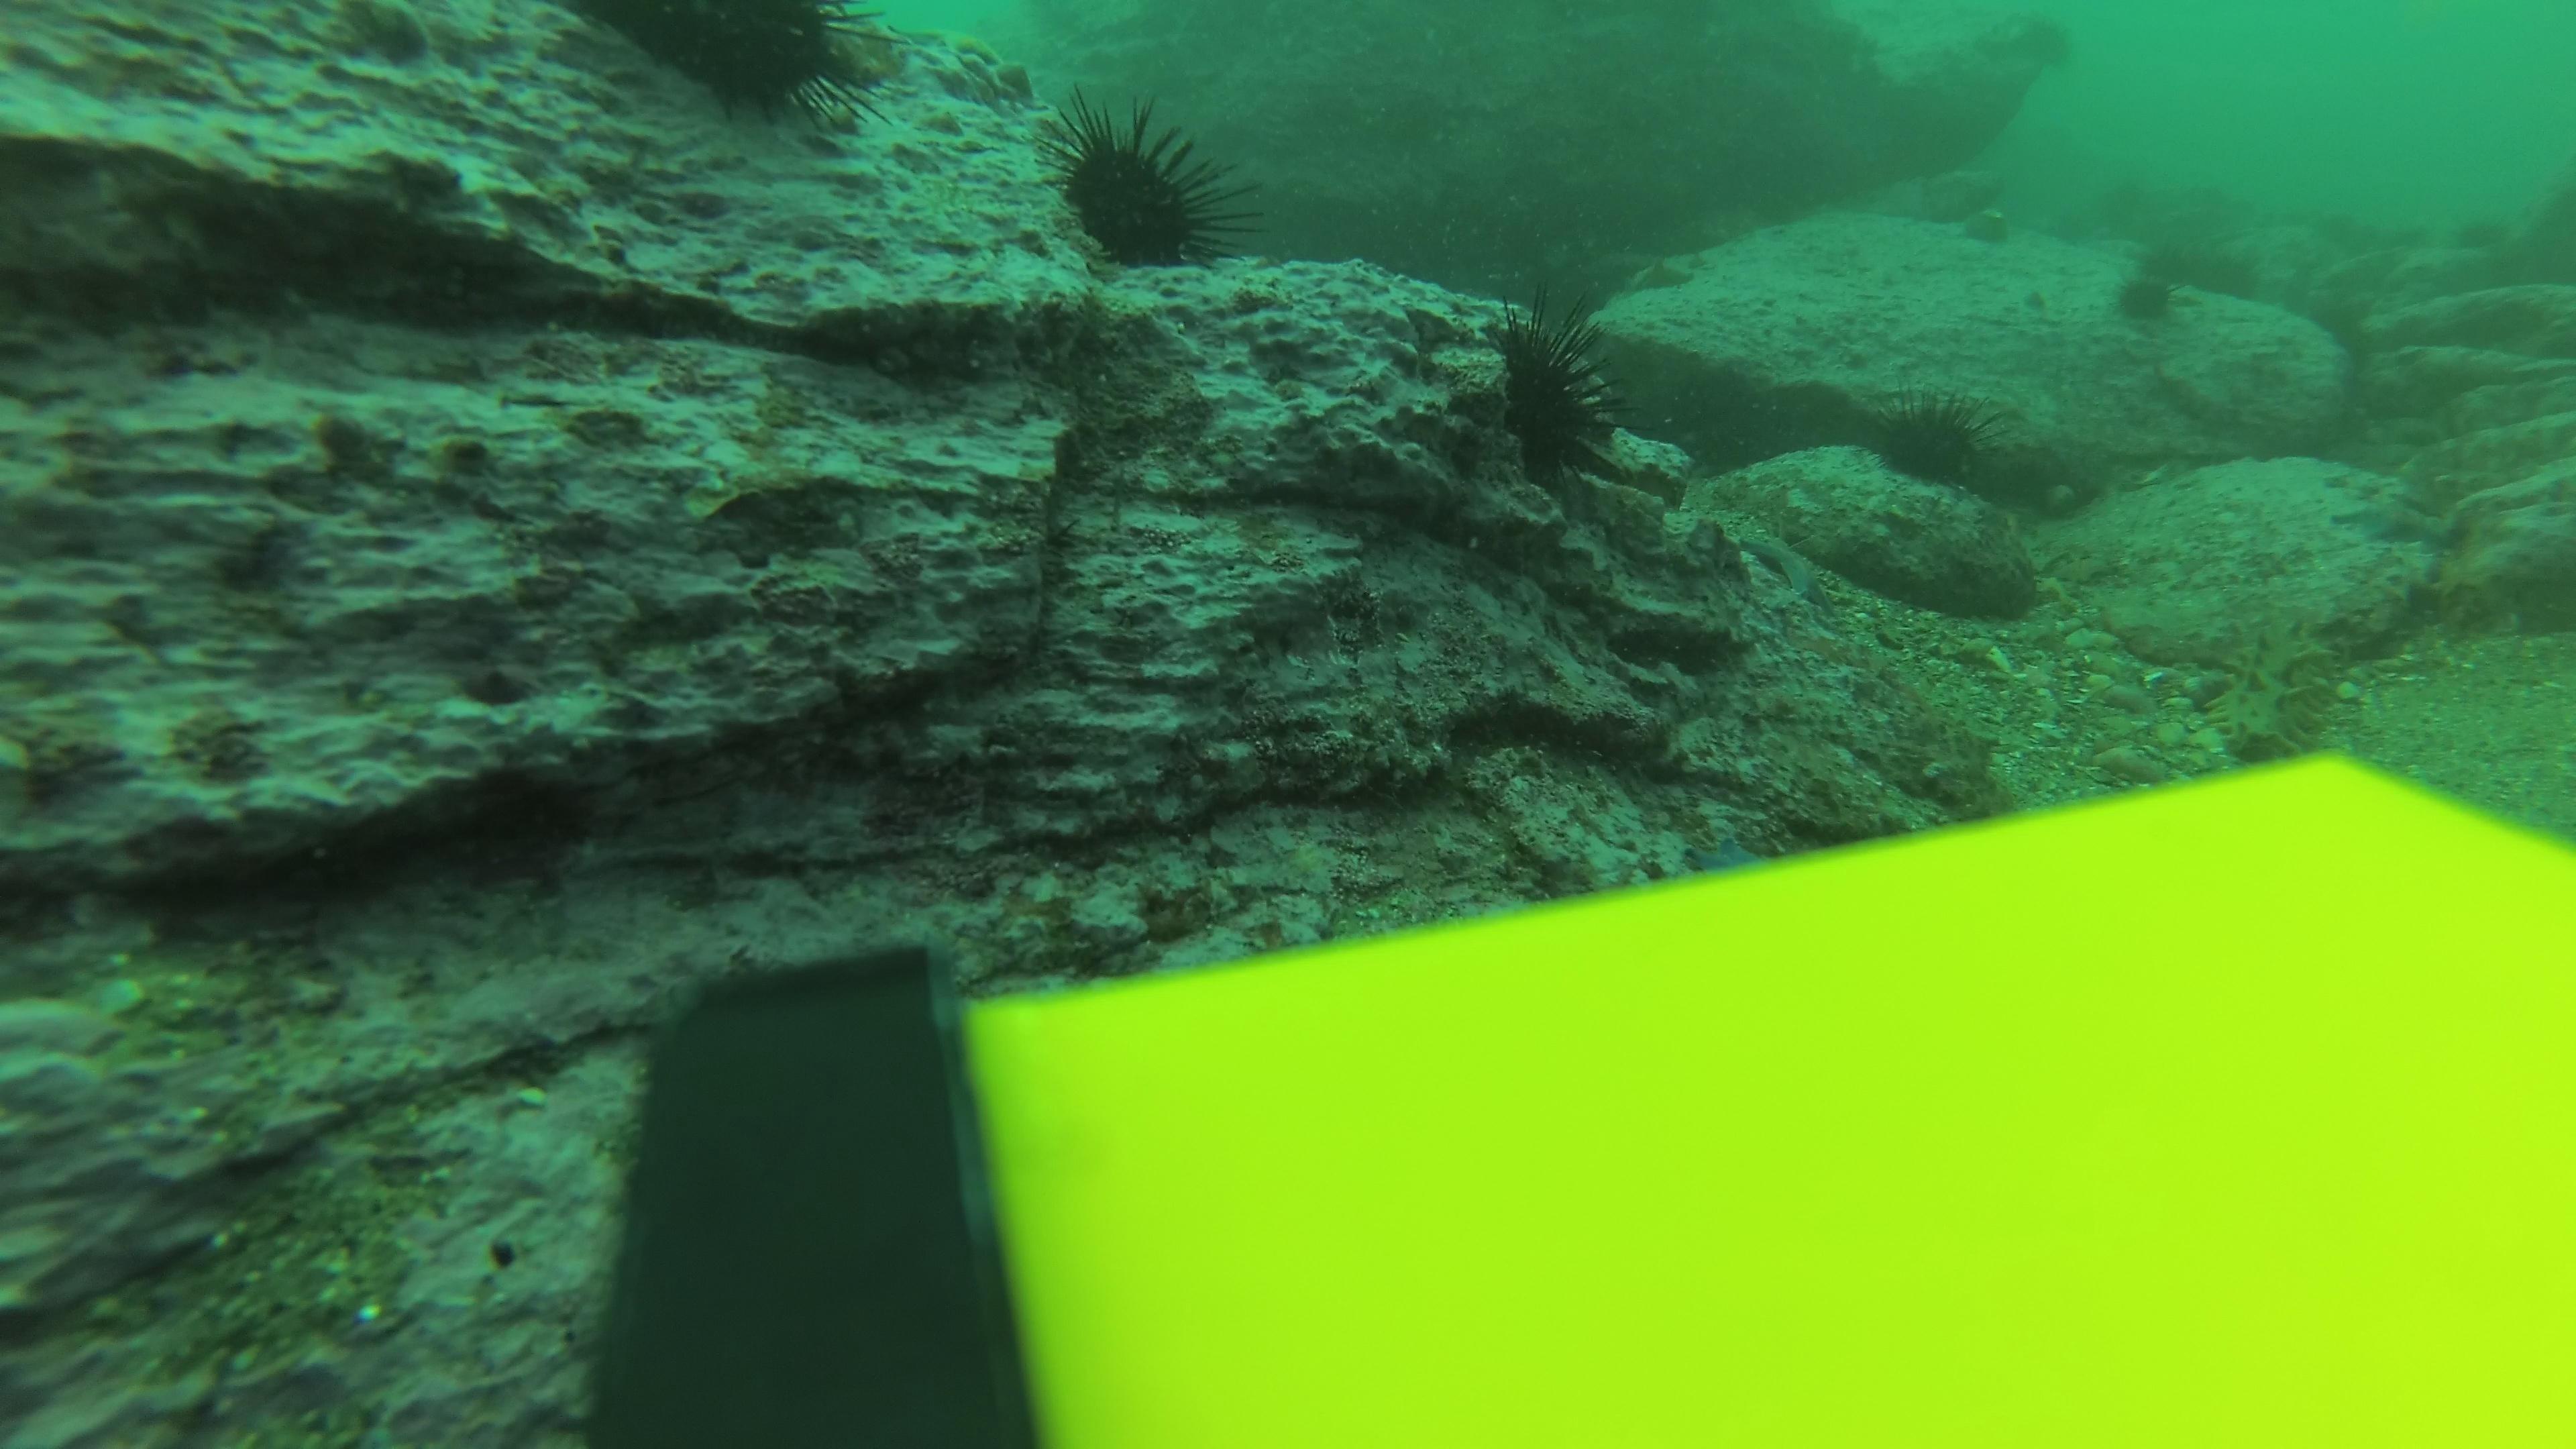echinus: (575, 2, 888, 136), (1035, 88, 1249, 276), (1476, 295, 1635, 502), (1865, 391, 1996, 495), (2105, 255, 2192, 333)
holothurian: (2204, 609, 2353, 773)
starfish: (839, 11, 1040, 97), (1721, 510, 1845, 612), (2323, 487, 2461, 552), (1679, 819, 1782, 878), (1617, 244, 1707, 299)
